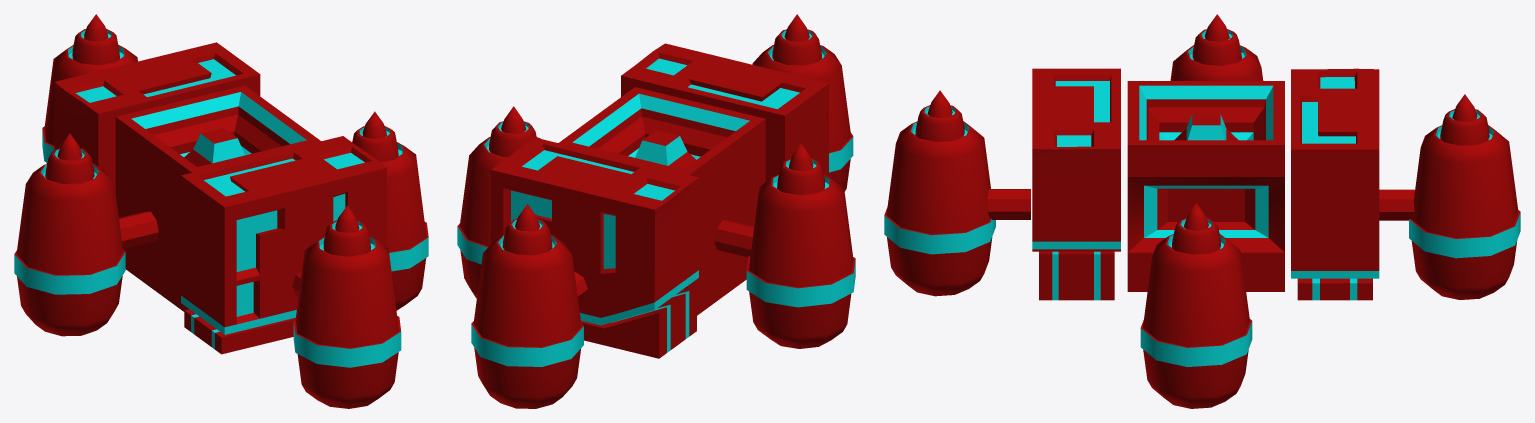
The model's file is GJ_Envrio_Kit_Buildings_HL_31-07-2019_v7.fbx.
3 renders of one model, left to right at view 1: azimuth 30°, elevation 25°; view 2: azimuth 150°, elevation 25°; view 3: azimuth 270°, elevation 25°, orthographic.
Parts seen in each view (by area): view 1: Building_7_DJ_Box_Building; view 2: Building_7_DJ_Box_Building; view 3: Building_7_DJ_Box_Building.
Boxes of the visible parts, x1,y1,x2,y2 form: Building_7_DJ_Box_Building: (14, 14, 428, 408); Building_7_DJ_Box_Building: (457, 14, 855, 408); Building_7_DJ_Box_Building: (884, 14, 1520, 408).
Size of the model in its own units: 1803 by 1055 by 2515.
